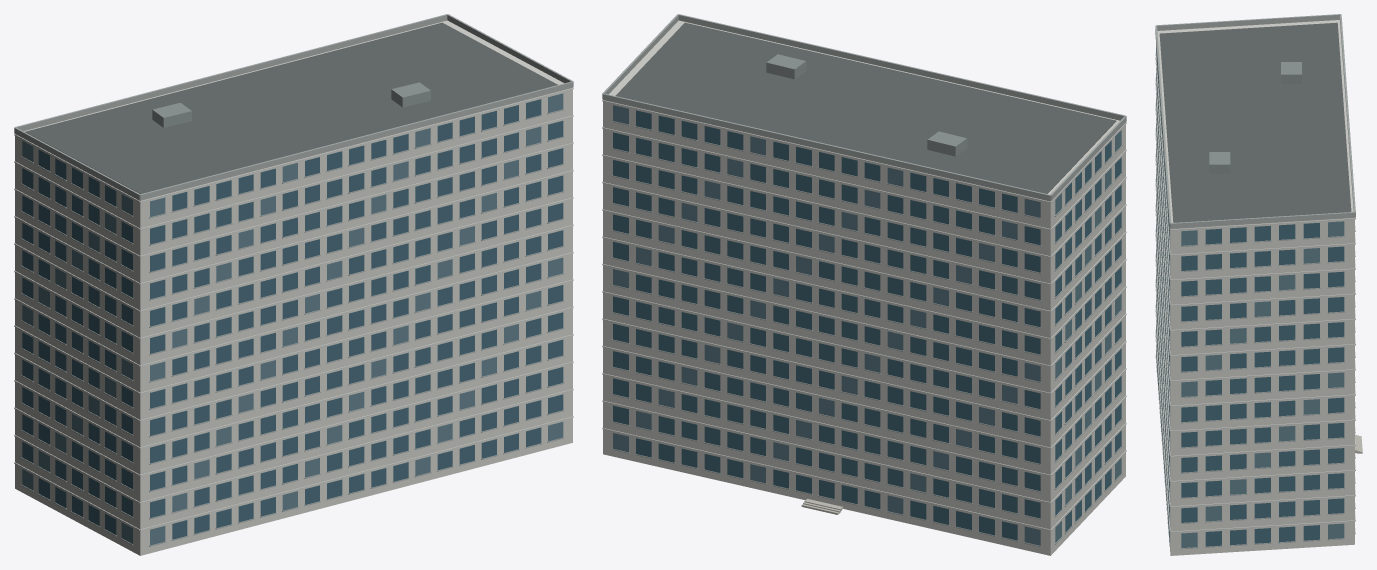
File: 东侧办公园区-009.glb
3 renders of one model, left to right at view 1: azimuth 30°, elevation 25°; view 2: azimuth 150°, elevation 25°; view 3: azimuth 270°, elevation 25°, orthographic. The views are drawn at different scales.
Parts seen in each view (by area): view 1: 东侧办公园区-009; view 2: 东侧办公园区-009; view 3: 东侧办公园区-009.
Boxes of the visible parts, left/top/right/bottom form: 东侧办公园区-009: left=14, top=14, right=573, bottom=555; 东侧办公园区-009: left=602, top=14, right=1126, bottom=555; 东侧办公园区-009: left=1155, top=14, right=1362, bottom=555.
Bounding box in the file's own units: 65.97 × 49.42 × 27.57.
